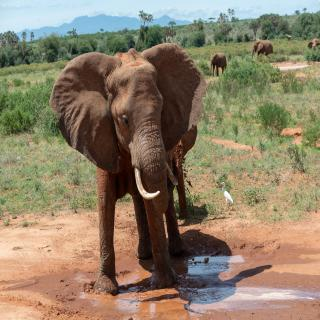Elephant: (49, 43, 207, 298)
